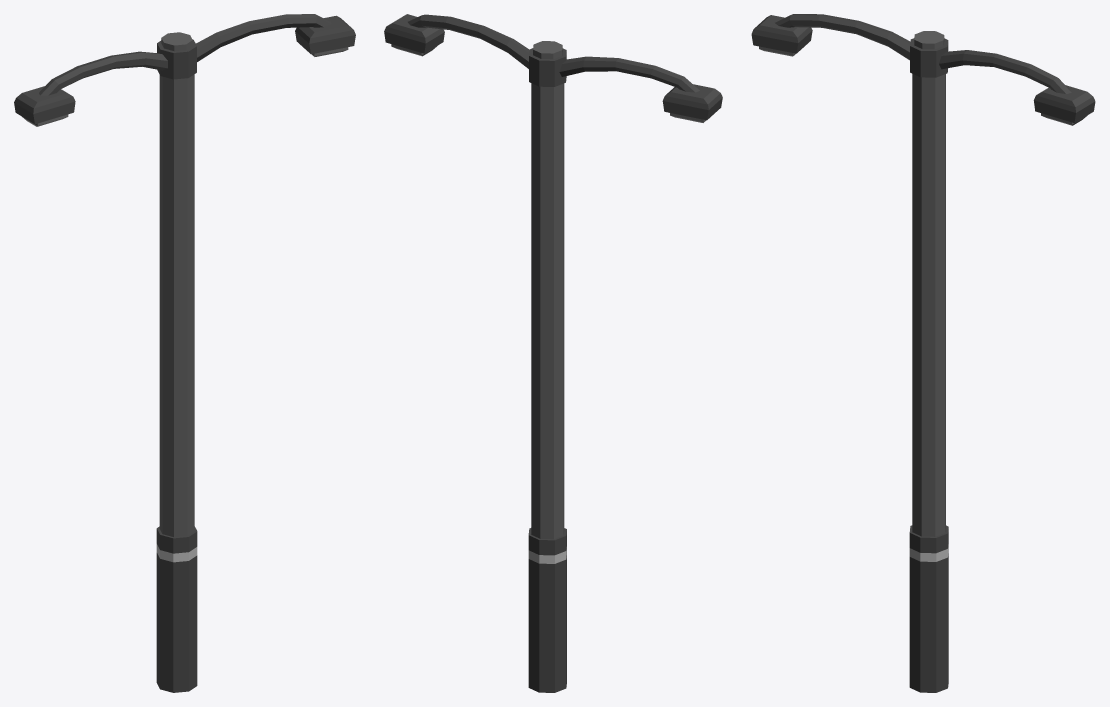
File: DoubleStreetLight.fbx
The picture shows the model from 3 angles, left to right: view 1: azimuth 30°, elevation 25°; view 2: azimuth 150°, elevation 25°; view 3: azimuth 330°, elevation 25°; orthographic projection.
Visible parts, largest first — view 1: DoubleStreetLight_LOD0; view 2: DoubleStreetLight_LOD0; view 3: DoubleStreetLight_LOD0.
Part boxes in pixels (x1=…): DoubleStreetLight_LOD0: x1=14, y1=14, x2=355, y2=692; DoubleStreetLight_LOD0: x1=384, y1=14, x2=722, y2=692; DoubleStreetLight_LOD0: x1=751, y1=14, x2=1095, y2=692.
Size of what is drawn, in the model's own units: 968 by 1825 by 138.
1 material, 1 textured.
